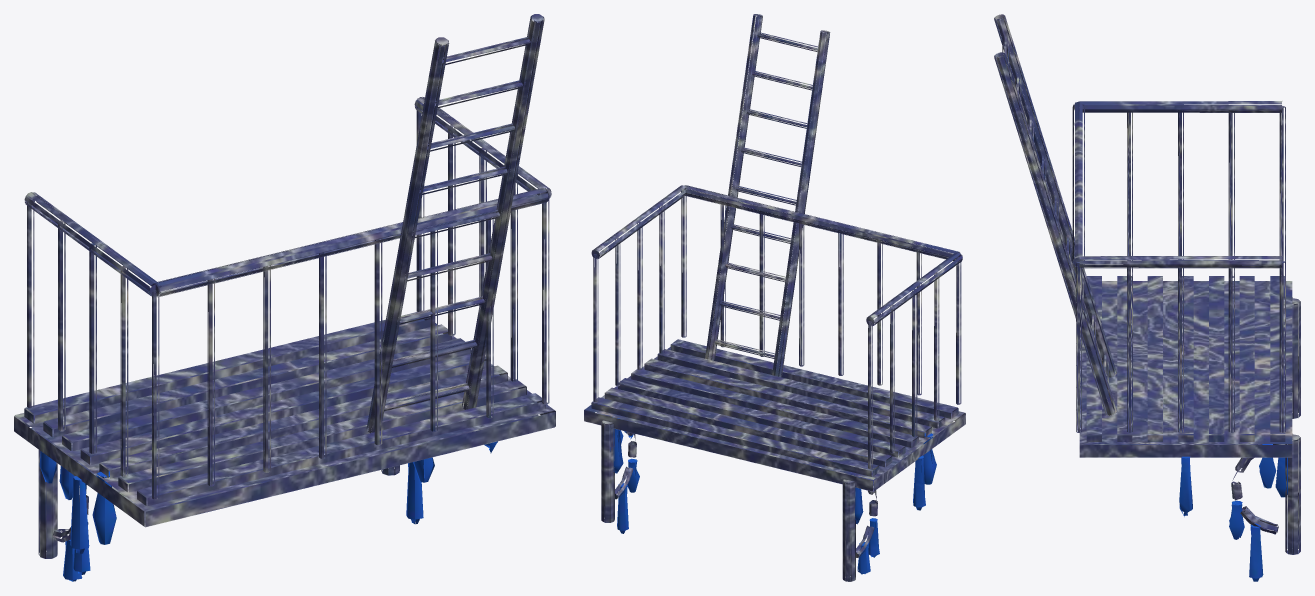
The model's file is fire_escape.glb.
The picture shows the model from 3 angles, left to right: view 1: azimuth 30°, elevation 25°; view 2: azimuth 150°, elevation 25°; view 3: azimuth 270°, elevation 25°; orthographic projection. The views are drawn at different scales.
Visible parts, largest first — view 1: fire_escape; view 2: fire_escape; view 3: fire_escape.
Boxes of the visible parts, left/top/right/bottom form: fire_escape: left=14, top=14, right=555, bottom=581; fire_escape: left=584, top=14, right=965, bottom=581; fire_escape: left=994, top=14, right=1300, bottom=581.
Bounding box in the file's own units: 2.11 × 2.99 × 1.62.
Materials: 1 (1 with a texture image).
